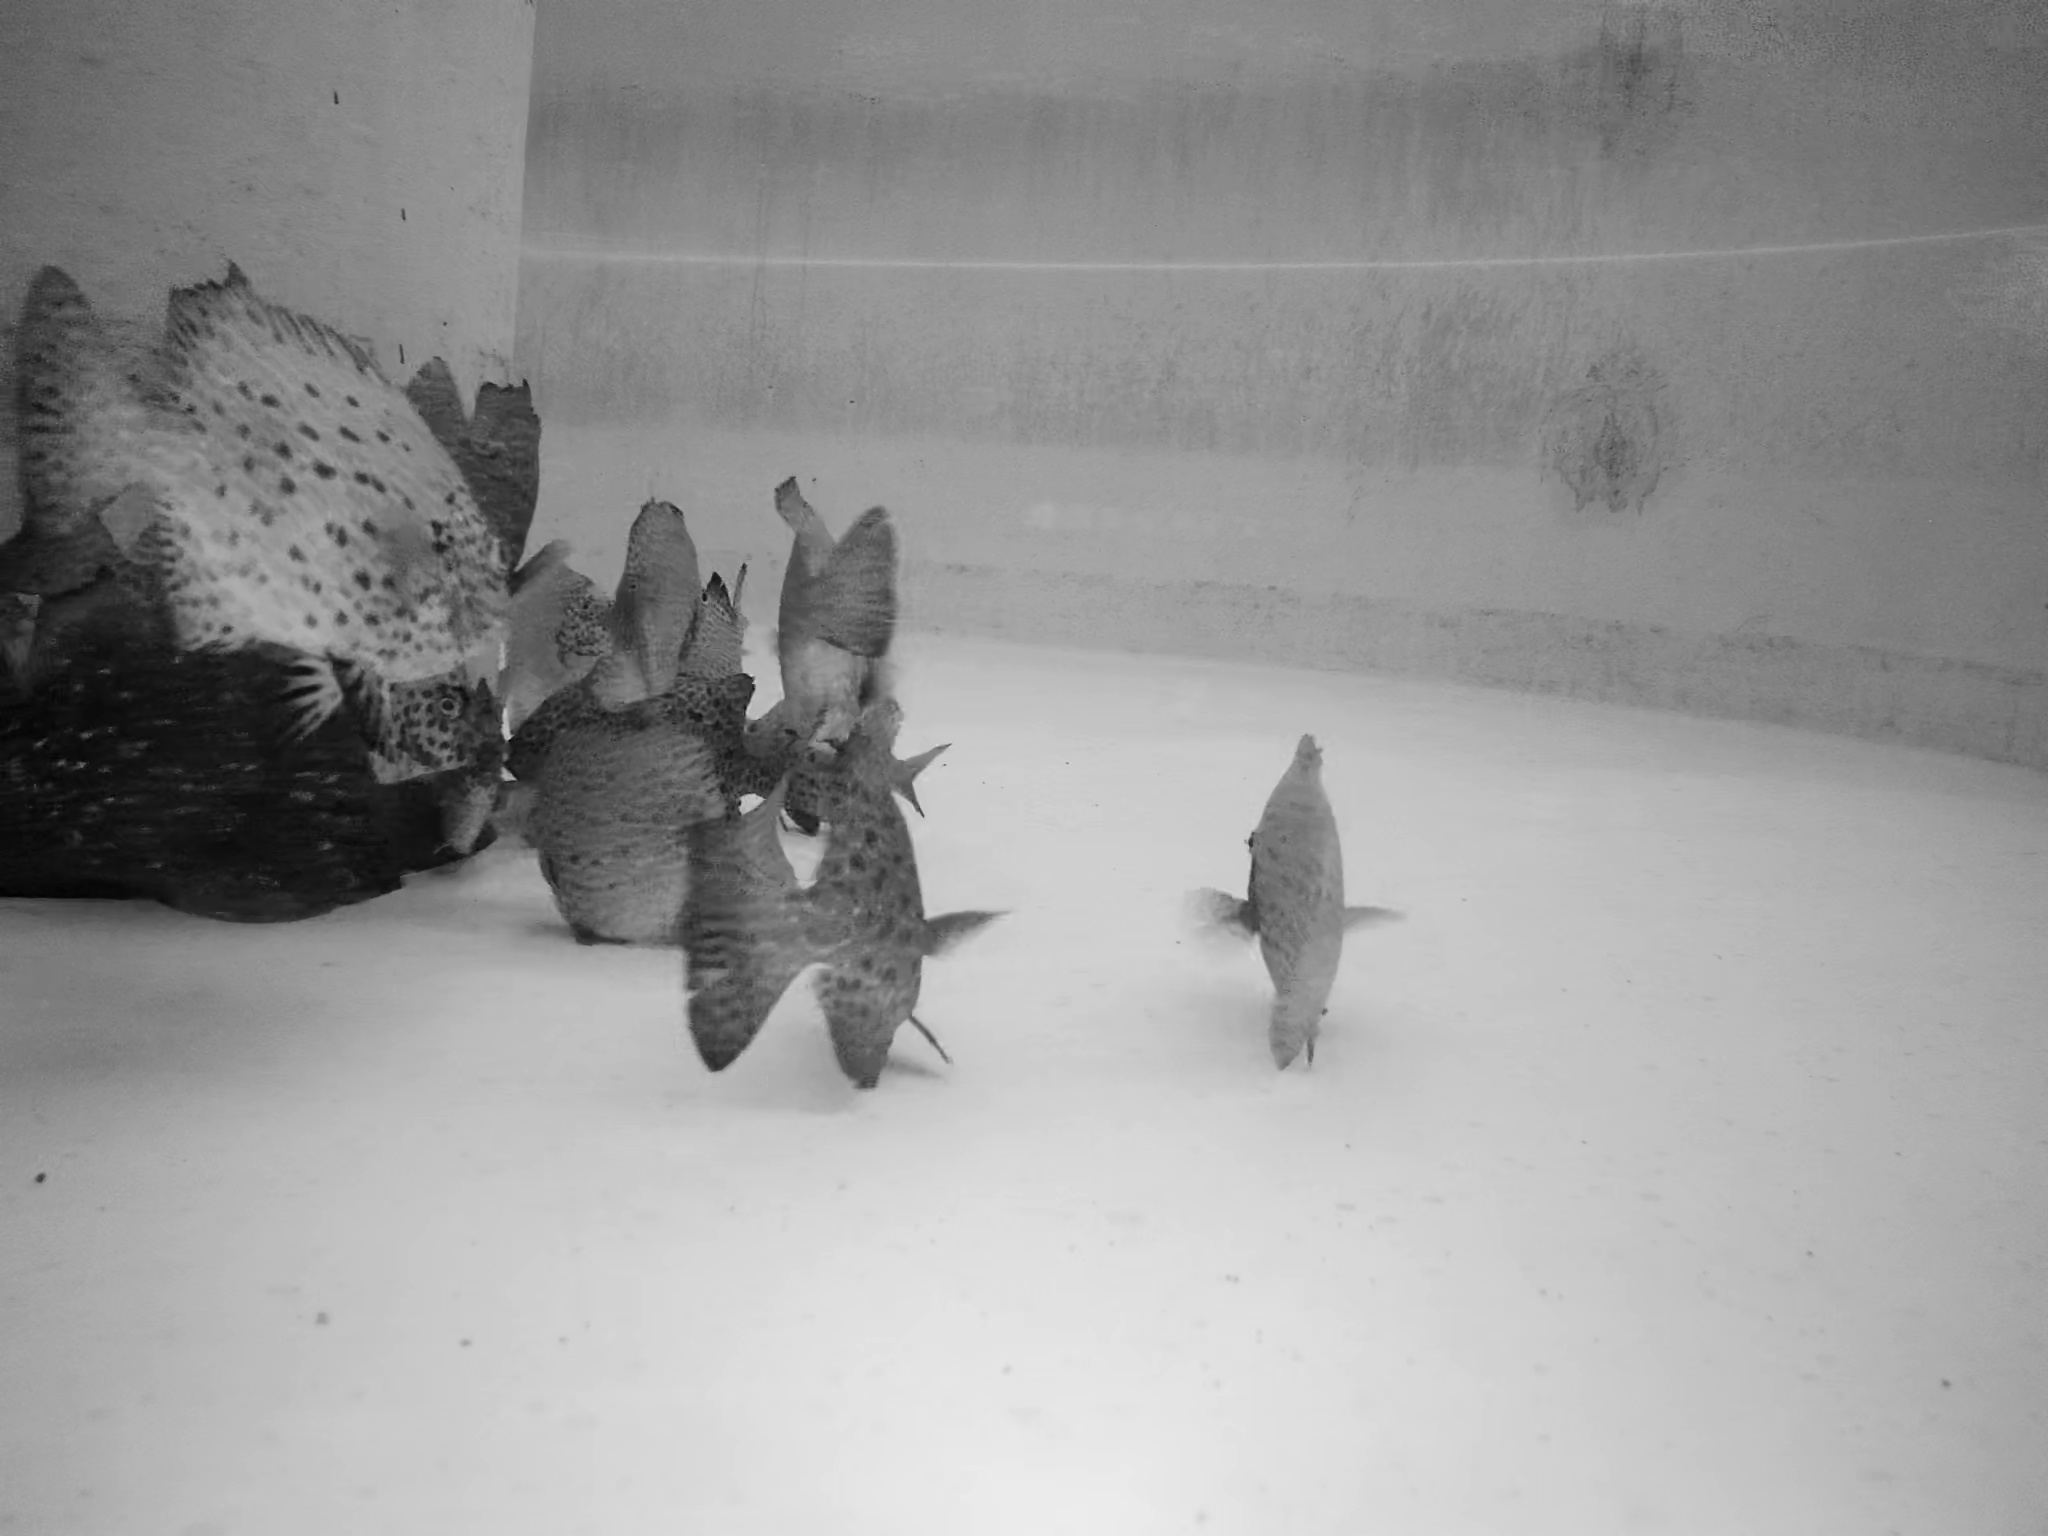fish: (16, 252, 514, 720), (672, 749, 1005, 1104), (1214, 742, 1398, 1066), (518, 707, 758, 936), (768, 474, 900, 720), (395, 350, 548, 558), (302, 658, 519, 791), (490, 552, 616, 710), (610, 500, 700, 682), (679, 578, 745, 716)
